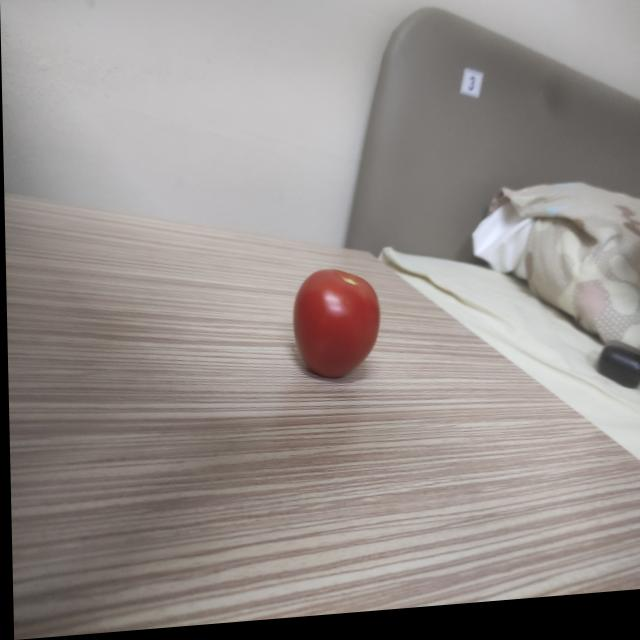kirmizi: (286, 259, 395, 400)
